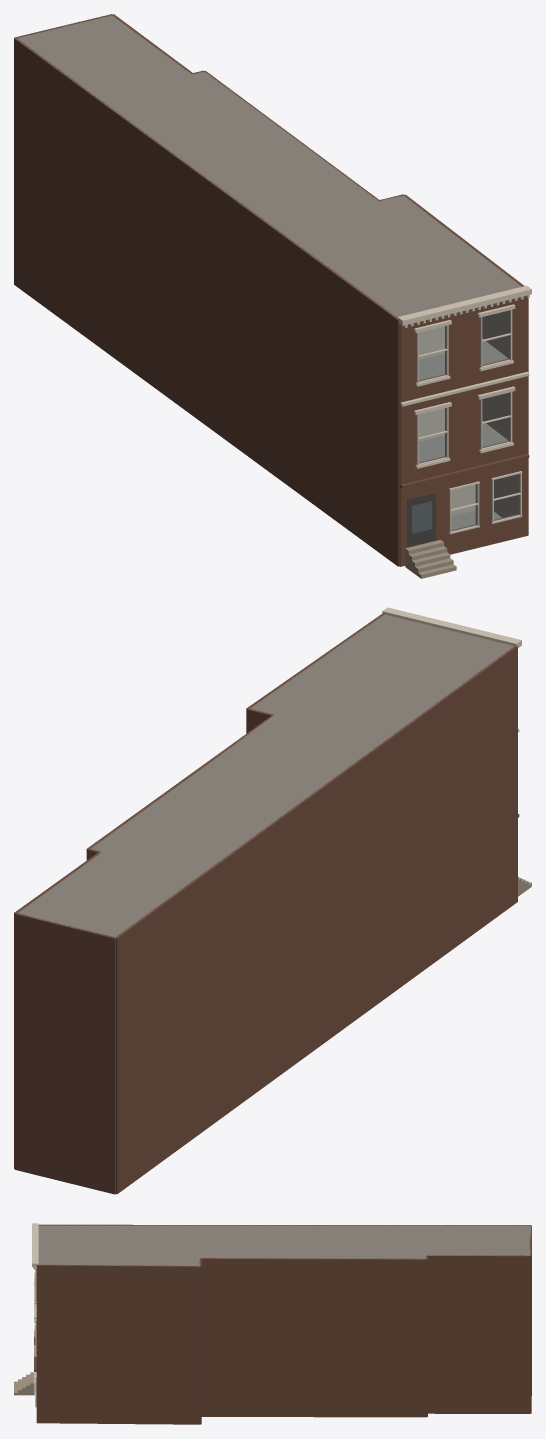
3 renders of one model, top to bottom at view 1: azimuth 30°, elevation 25°; view 2: azimuth 150°, elevation 25°; view 3: azimuth 270°, elevation 25°, orthographic. The views are drawn at different scales.
Parts seen in each view (by area): view 1: Shell, Roof, Facade floor 0, Facade floor 1, Facade floor 2, Cornice, Floor 2, Floor 1, Floor 0; view 2: Shell, Roof, Cornice; view 3: Shell, Roof, Facade floor 0, Cornice.
Boxes of the visible parts, x1=… form: Shell: x1=14, y1=14, x2=528, y2=566; Roof: x1=16, y1=15, x2=521, y2=317; Facade floor 0: x1=399, y1=454, x2=529, y2=578; Facade floor 1: x1=399, y1=371, x2=529, y2=484; Facade floor 2: x1=399, y1=296, x2=527, y2=402; Cornice: x1=397, y1=285, x2=531, y2=327; Floor 2: x1=418, y1=326, x2=507, y2=380; Floor 1: x1=418, y1=408, x2=507, y2=462; Floor 0: x1=451, y1=485, x2=501, y2=529; Shell: x1=14, y1=614, x2=517, y2=1194; Roof: x1=18, y1=614, x2=513, y2=937; Cornice: x1=382, y1=607, x2=521, y2=647; Shell: x1=36, y1=1224, x2=531, y2=1424; Roof: x1=38, y1=1225, x2=530, y2=1266; Facade floor 0: x1=14, y1=1330, x2=36, y2=1407; Cornice: x1=32, y1=1223, x2=38, y2=1268.
Bounding box in the file's own units: 6.39 × 11.29 × 33.23.
